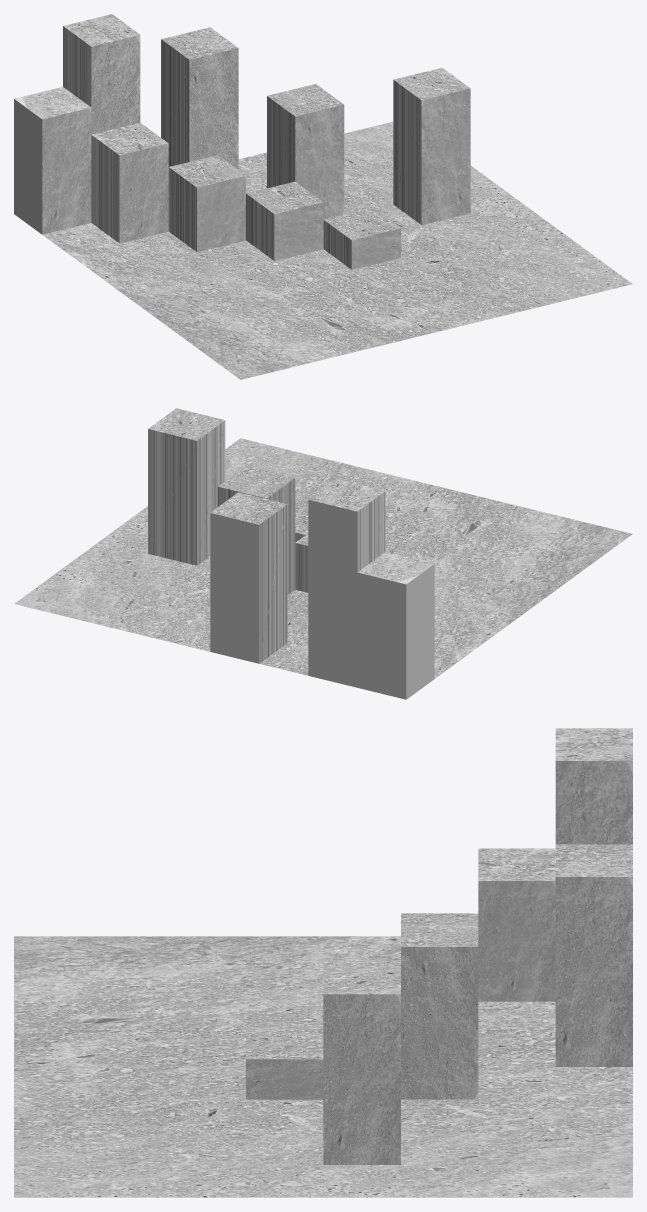
File: level1.gltf
3 renders of one model, top to bottom at view 1: azimuth 30°, elevation 25°; view 2: azimuth 150°, elevation 25°; view 3: azimuth 270°, elevation 25°, orthographic. The views are drawn at different scales.
Visible parts, largest first — view 1: Plane; view 2: Plane; view 3: Plane.
Boxes of the visible parts, left/top/right/bottom form: Plane: left=14, top=14, right=632, bottom=379; Plane: left=14, top=408, right=632, bottom=699; Plane: left=14, top=728, right=632, bottom=1197.
Bounding box in the file's own units: 28.24 × 12.12 × 28.24.
Materials: 1 (1 with a texture image).
